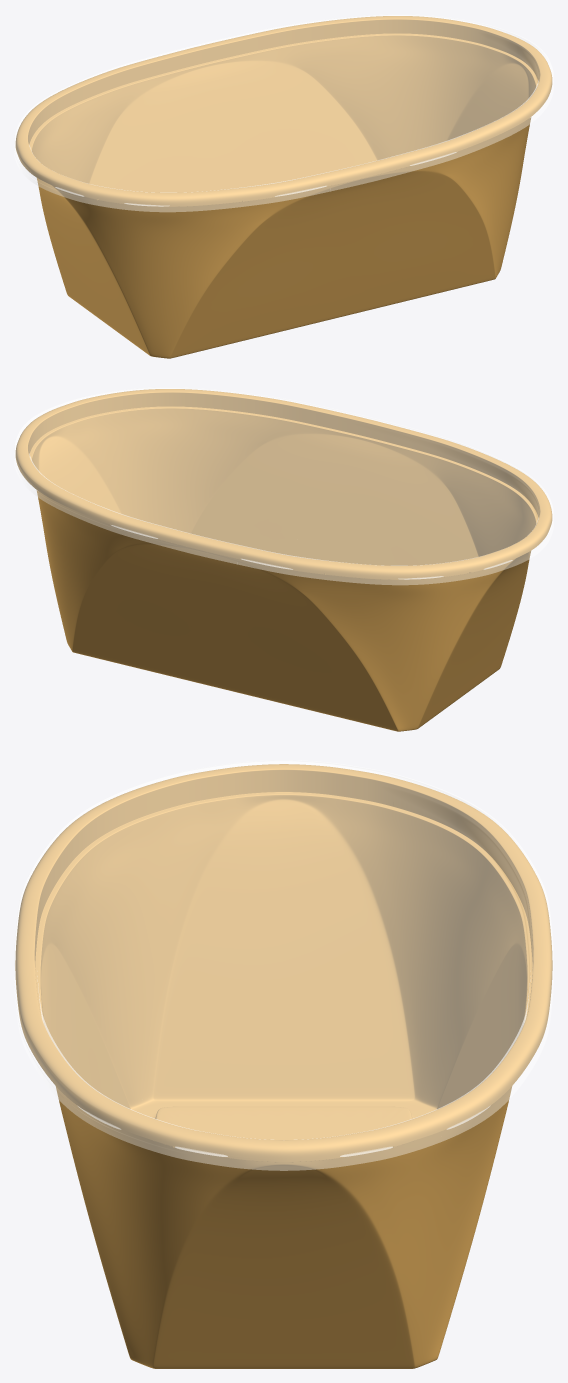
The model's file is 250ml-oval.glb.
3 views of the same model, one above another, from view 1: azimuth 30°, elevation 25°; view 2: azimuth 150°, elevation 25°; view 3: azimuth 270°, elevation 25° (orthographic). The views are drawn at different scales.
Parts seen in each view (by area): view 1: Plane002, Plane005; view 2: Plane002, Plane005; view 3: Plane002, Plane005.
Boxes of the visible parts, left/top/right/bottom form: Plane002: left=15, top=16, right=552, bottom=358; Plane005: left=14, top=14, right=553, bottom=211; Plane002: left=15, top=389, right=552, bottom=731; Plane005: left=14, top=387, right=553, bottom=584; Plane002: left=15, top=764, right=552, bottom=1368; Plane005: left=14, top=760, right=553, bottom=1170.
Size of the model in its own units: 0.1319 by 0.0446 by 0.0773.
